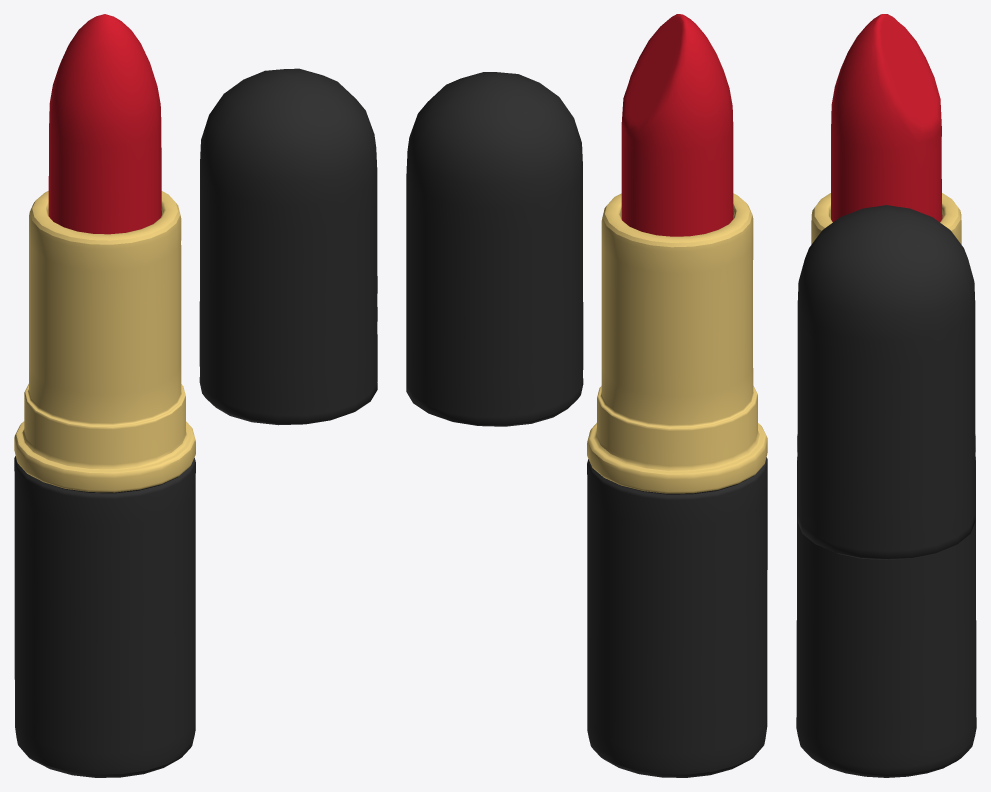
Rendered from lipstick.fbx.
3 renders of one model, left to right at view 1: azimuth 30°, elevation 25°; view 2: azimuth 150°, elevation 25°; view 3: azimuth 270°, elevation 25°, orthographic.
Visible parts, largest first — view 1: Lipstick Tube, Lipstick Cap, Lipstick; view 2: Lipstick Tube, Lipstick Cap, Lipstick; view 3: Lipstick Cap, Lipstick Tube, Lipstick.
Part boxes in pixels (x1,y1,x2,y2): Lipstick Tube: [14, 191, 195, 777]; Lipstick Cap: [199, 68, 377, 425]; Lipstick: [48, 14, 161, 234]; Lipstick Tube: [587, 193, 767, 777]; Lipstick Cap: [406, 72, 583, 426]; Lipstick: [621, 14, 733, 236]; Lipstick Cap: [797, 205, 975, 559]; Lipstick Tube: [796, 193, 976, 777]; Lipstick: [831, 14, 942, 222].
Bounding box in the file's own units: 226 × 466 × 104.
